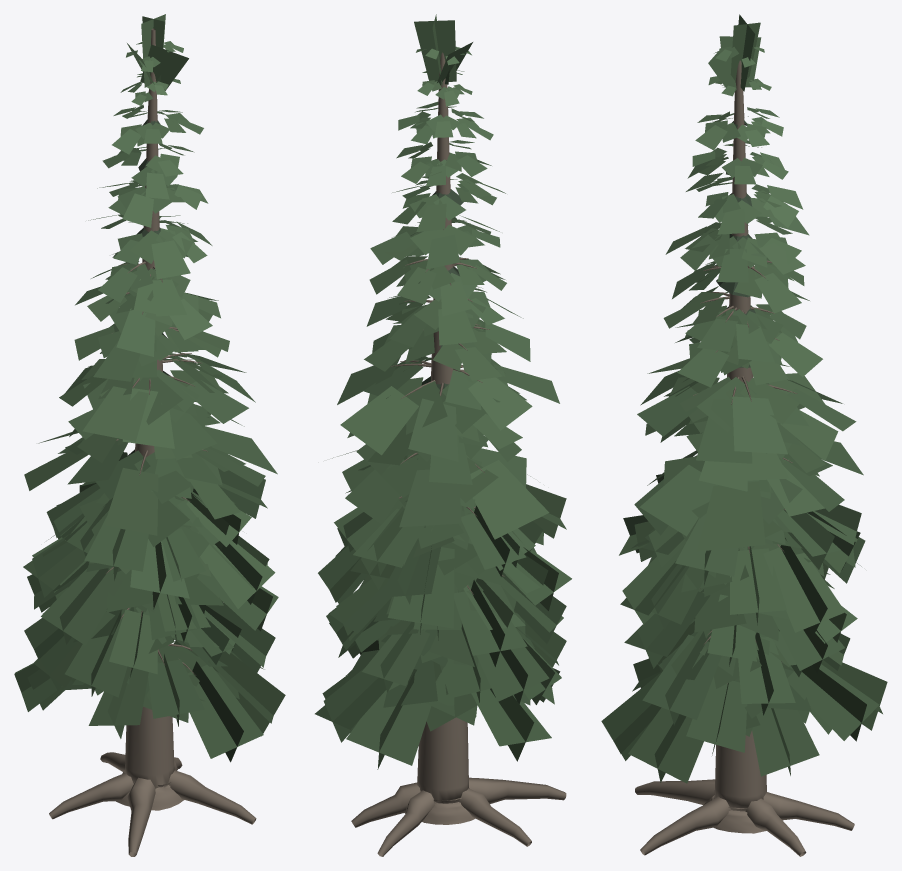
Rendered from giant_fir_b.glb.
3 views of the same model, side by side, from view 1: azimuth 30°, elevation 25°; view 2: azimuth 150°, elevation 25°; view 3: azimuth 270°, elevation 25° (orthographic). The views are drawn at different scales.
Parts seen in each view (by area): view 1: giant_fir_b; view 2: giant_fir_b; view 3: giant_fir_b.
Part boxes in pixels (bbox=[...]): giant_fir_b: bbox=[14, 14, 285, 856]; giant_fir_b: bbox=[315, 14, 571, 856]; giant_fir_b: bbox=[601, 14, 887, 856].
Size of the model in its own units: 14.15 by 46.29 by 14.85.
